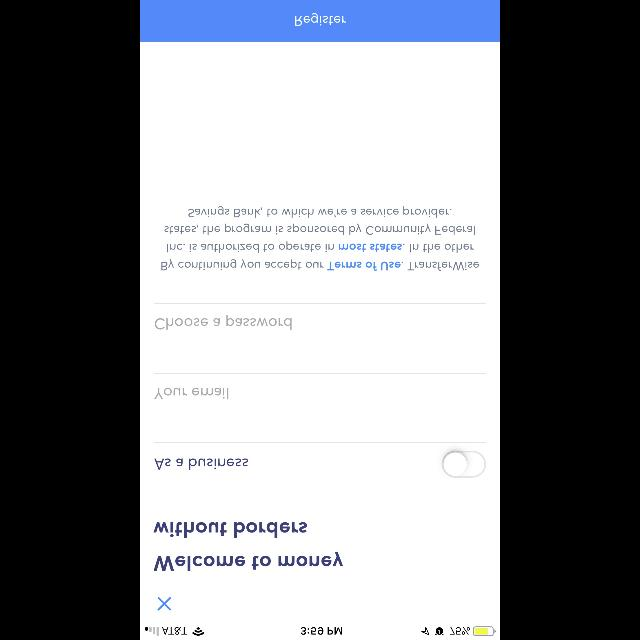icon: (158, 597, 172, 611)
input: (154, 372, 486, 400), (154, 304, 486, 330)
switch: (442, 450, 486, 478)
text: (162, 206, 478, 270), (153, 522, 343, 570), (156, 314, 292, 330), (154, 458, 248, 470), (155, 387, 229, 399)
textbutton: (140, 1, 500, 42)
uppertaskbar: (140, 626, 500, 640)
